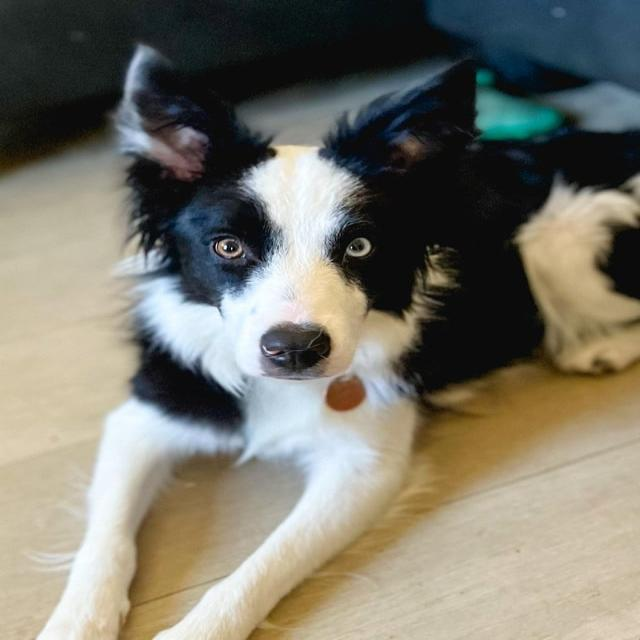BORDER_COLLIE: (33, 21, 640, 640)
